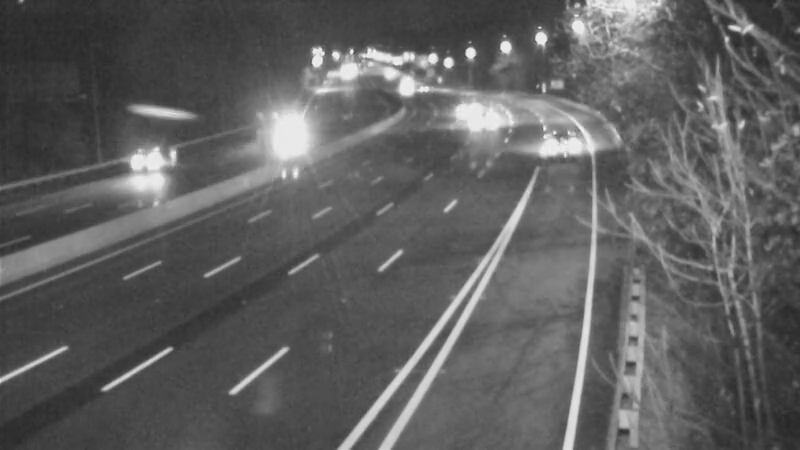vehicle: (97, 126, 177, 206), (397, 62, 447, 112), (378, 66, 428, 116), (434, 85, 484, 135), (462, 95, 512, 145), (536, 112, 586, 162), (264, 112, 314, 162)
